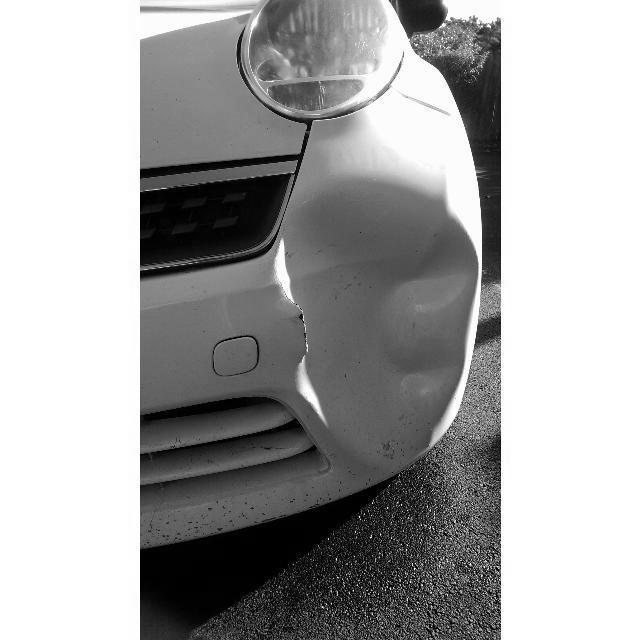front-bumper-dent: (139, 272, 479, 554), (140, 131, 479, 346)
